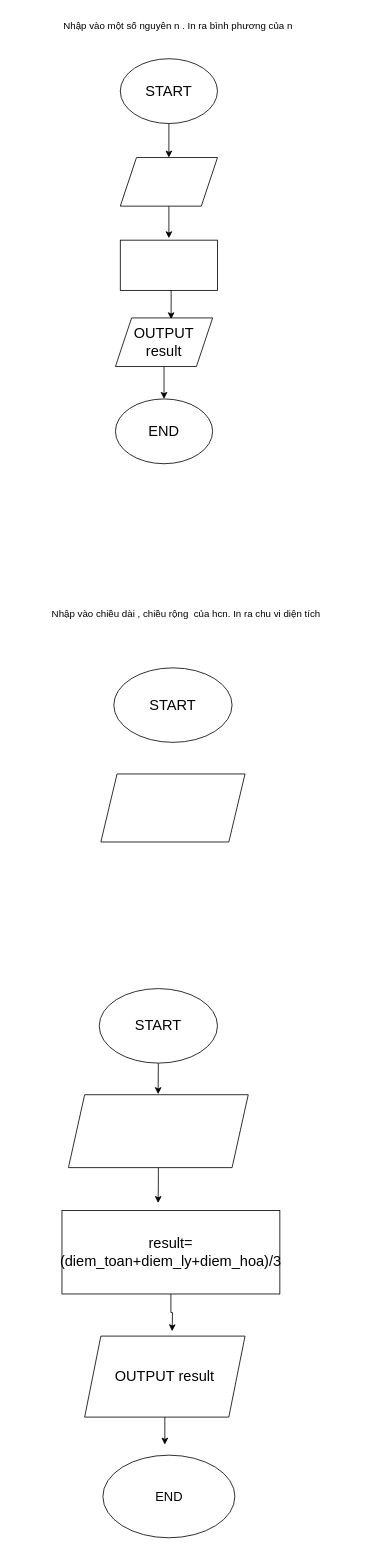
Some shapes in this 372 by 1552 pixel diagram are drawn without their labels. Here are the shapes that lost their labels. From the top down, the centre of each, then its label:
point 168,181: INPUT n
point 168,264: result= n*n
point 172,807: INPUT chiều dài, chiều rông
point 158,1131: INPUT diem_toan, diem_ly, diem_hoa
